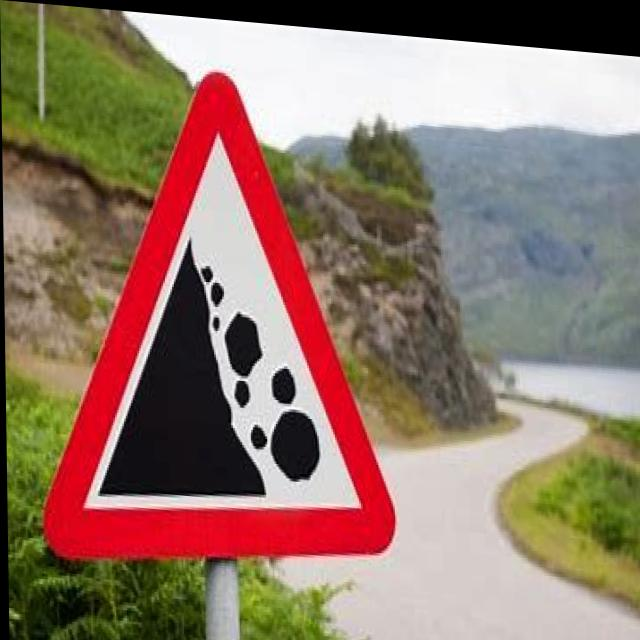FALLING_ROCKS: (42, 57, 391, 565)
